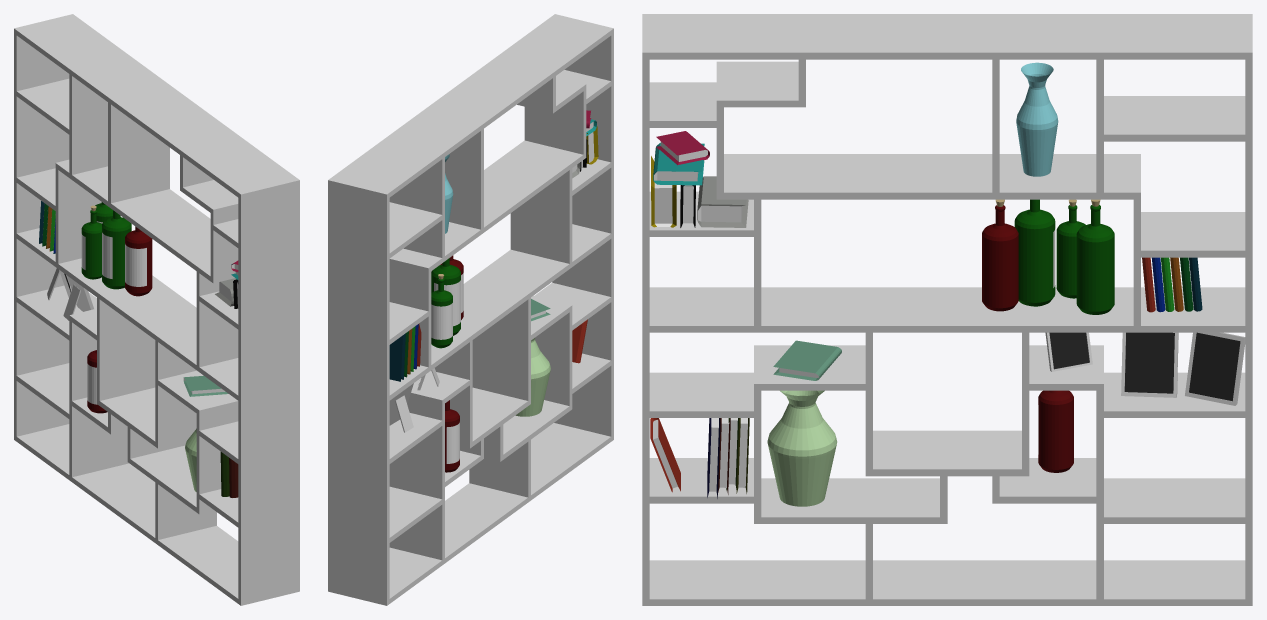
The model's file is IKEA_full.fbx.
3 views of the same model, side by side, from view 1: azimuth 30°, elevation 25°; view 2: azimuth 150°, elevation 25°; view 3: azimuth 270°, elevation 25° (orthographic). The views are drawn at different scales.
Visible parts, largest first — view 1: Plane, Cylinder.002, Cylinder.003, Cylinder.001, Stand.001, Cylinder.004, Cube.002, Vase; view 2: Plane, Cylinder.001, Vase, Cylinder.002, Cylinder.004, Stand.001, Cube.007, Cube; view 3: Plane, Vase, Stand, Stand.001, Cylinder.002, Cylinder, Vase.001, Cylinder.003, Cylinder.004, Cube.002, Cube.012, Cylinder.001 (+7 smaller).
Part boxes in pixels (x1,y1,x2,y2): Plane: (14, 14, 299, 605); Cylinder.002: (102, 210, 131, 289); Cylinder.003: (125, 226, 152, 296); Cylinder.001: (81, 205, 101, 279); Stand.001: (63, 275, 93, 320); Cylinder.004: (87, 350, 107, 413); Cube.002: (183, 375, 228, 396); Vase: (185, 428, 196, 491); Plane: (328, 14, 613, 605); Cylinder.001: (431, 274, 452, 348); Vase: (515, 338, 550, 416); Cylinder.002: (431, 258, 460, 335); Cylinder.004: (445, 400, 459, 472); Stand.001: (389, 383, 413, 432); Cube.007: (389, 333, 405, 381); Cube: (572, 319, 587, 363); Plane: (642, 14, 1252, 605); Vase: (767, 390, 837, 506); Stand: (1185, 332, 1245, 405); Stand.001: (1121, 332, 1178, 397); Cylinder.002: (1014, 199, 1055, 306); Cylinder: (1076, 199, 1114, 314); Vase.001: (1016, 62, 1058, 176); Cylinder.003: (982, 199, 1018, 311); Cylinder.004: (1038, 390, 1073, 472); Cube.002: (773, 340, 841, 380); Cube.012: (697, 176, 748, 227); Cylinder.001: (1056, 199, 1085, 298).
Bounding box in the file's own units: 163 × 1000 × 1000.
